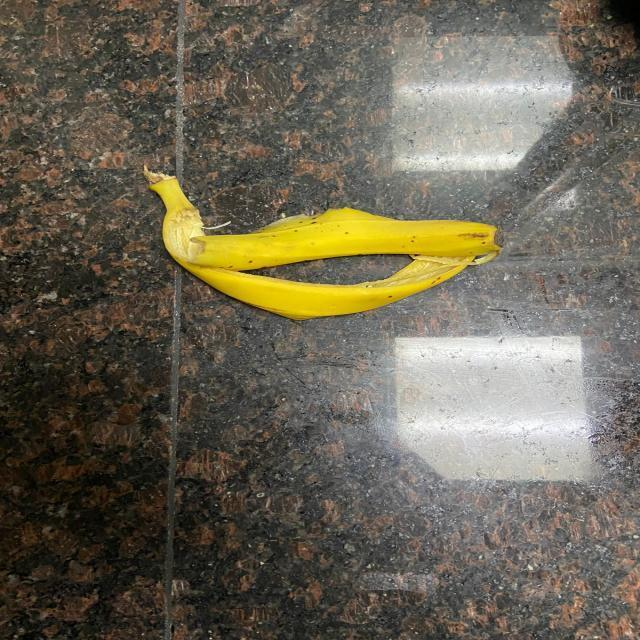banana-peel: (141, 163, 502, 320)
